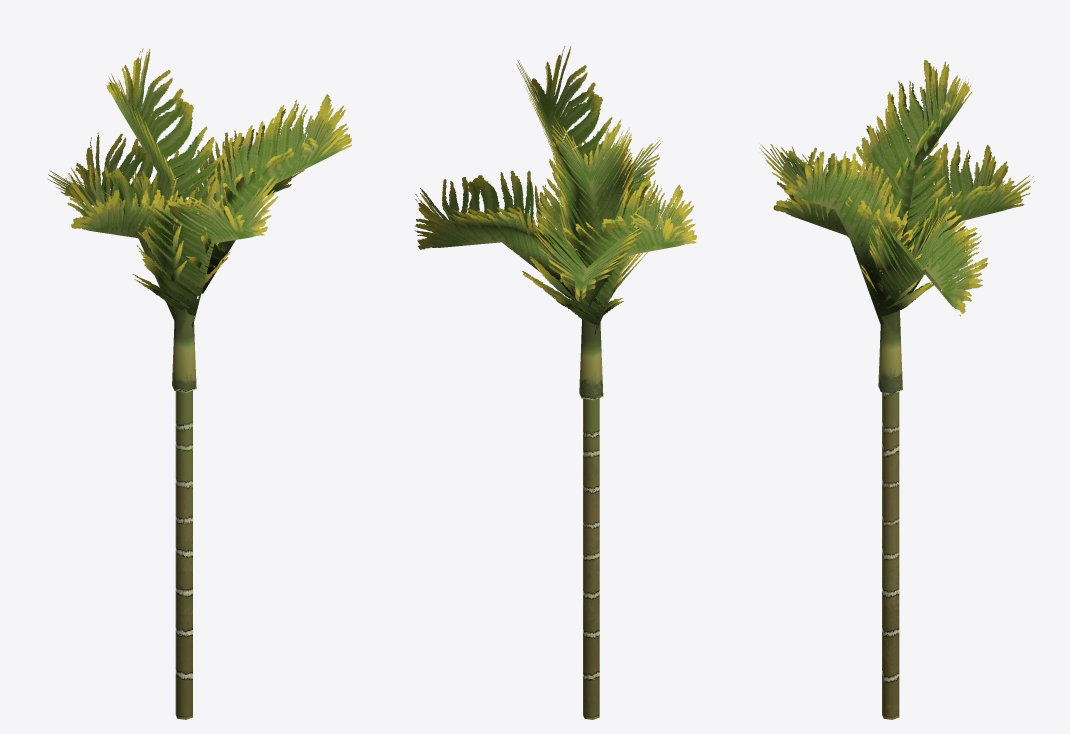
The model's file is flora_tree_palm_areca.glb.
The picture shows the model from 3 angles, left to right: view 1: azimuth 30°, elevation 25°; view 2: azimuth 150°, elevation 25°; view 3: azimuth 270°, elevation 25°; orthographic projection. The views are drawn at different scales.
Parts seen in each view (by area): view 1: flora_tree_palm_areca_part0; view 2: flora_tree_palm_areca_part0; view 3: flora_tree_palm_areca_part0.
Part boxes in pixels (<box>): flora_tree_palm_areca_part0: <box>48,48,351,719</box>; flora_tree_palm_areca_part0: <box>414,46,696,719</box>; flora_tree_palm_areca_part0: <box>759,60,1034,719</box>.
Bounding box in the file's own units: 8.88 × 19.83 × 8.52.
Materials: 1 (1 with a texture image).
